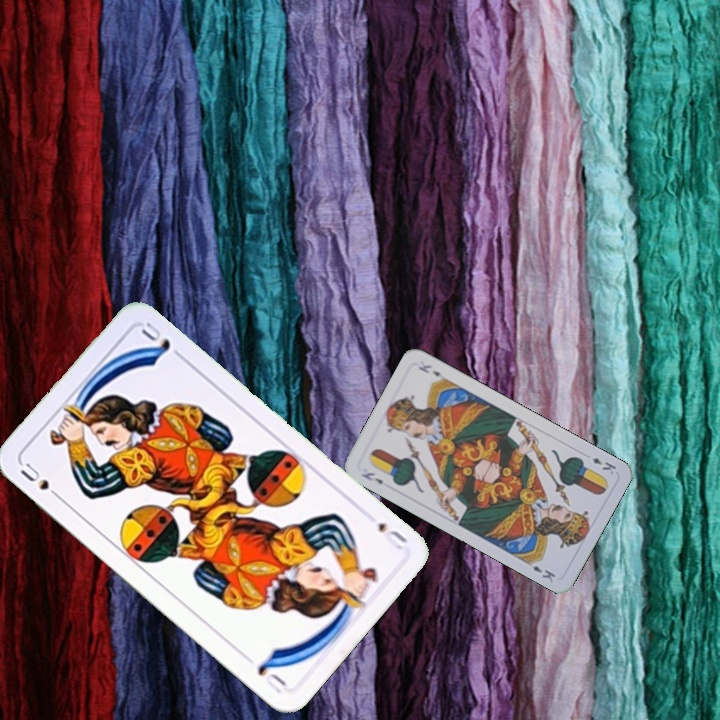EK: (588, 454, 619, 477), (357, 468, 386, 487)
SU: (16, 458, 66, 504), (373, 518, 410, 552)
